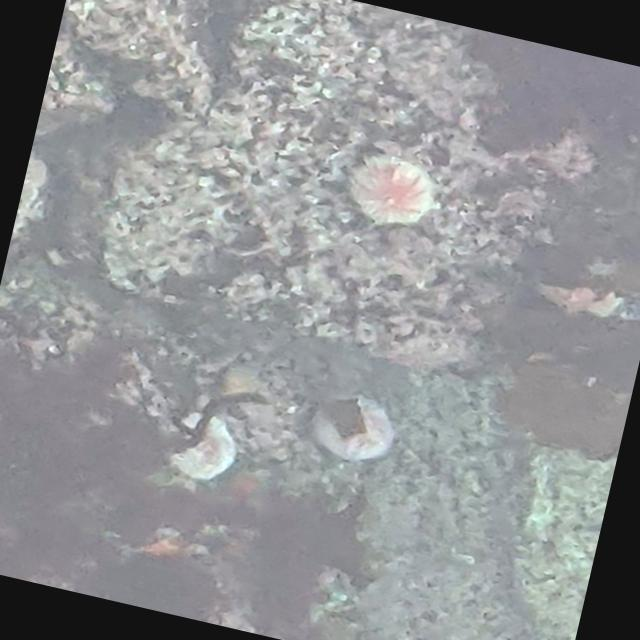Deniz Kestanesi: (339, 147, 441, 233), (306, 384, 401, 468), (160, 404, 243, 484)
